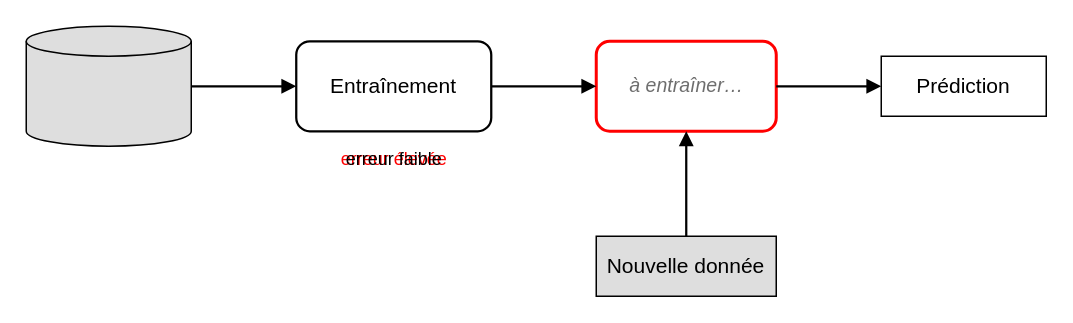
Image size: 1073x323. Some labels were removed from this diagram. The shapes that lost their labels are listed below. From the top down, each one's box as (x1, y1, x2, y2) in pixels, then its label:
(25, 25, 191, 146): Données étiquetées
(594, 39, 777, 132): Modèle
